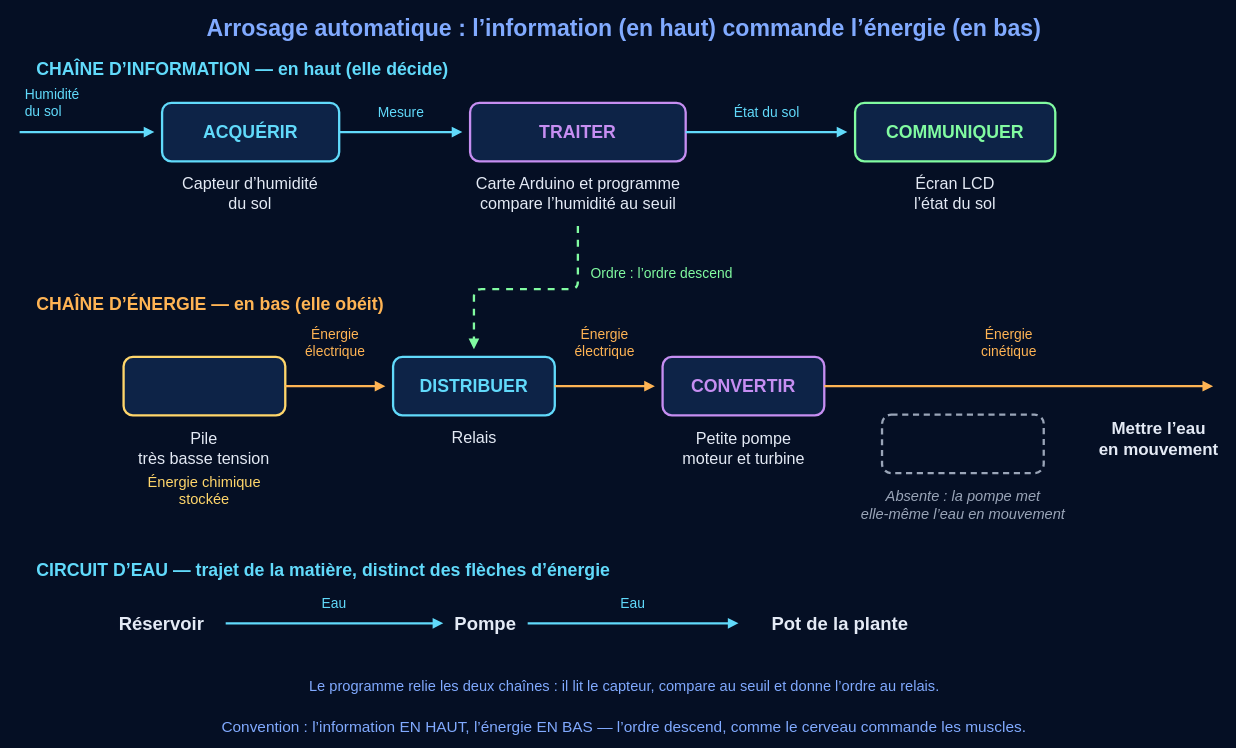
Image size: 1236x748. Some labels were removed from this diagram. The centre of each missing label's shape, as x and y in pixels:
STOCKER: (x=204, y=385)
TRANSMETTRE: (x=962, y=443)
